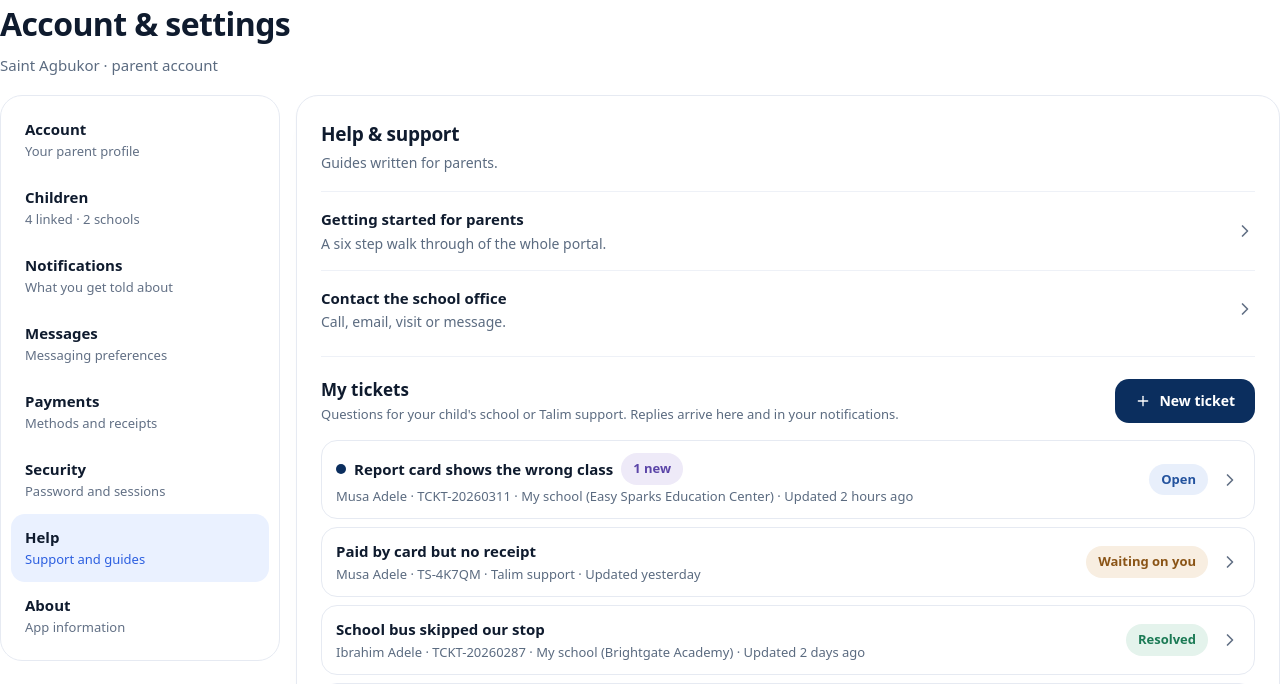
Test: New ticket (fixtures) › defaults to the active child, offers both desks with that child’s school, and checks every field on Send
Click the button "New ticket" at (1185, 400), box [1115, 378, 1255, 422]
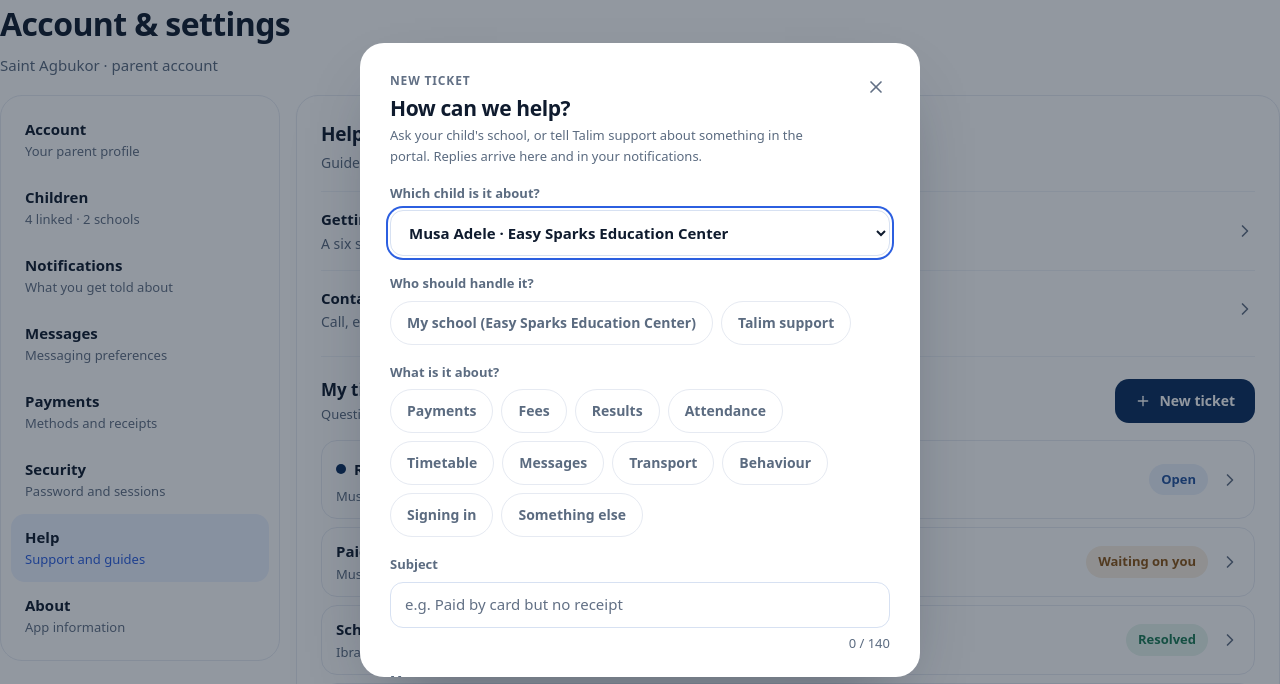
Now the dropdown labelled "Which child is it about?" shows "Musa Adele · Easy Sparks Education Center"
Now the radio buttons read "My school (Easy Sparks Education Center)", "Talim support", in this order, box [390, 301, 713, 345]; [721, 301, 851, 345]
Select "Zainab Adele · Brightgate Academy" in the dropdown labelled "Which child is it about?" at (640, 233), box [390, 210, 890, 256]
(page scrolled)
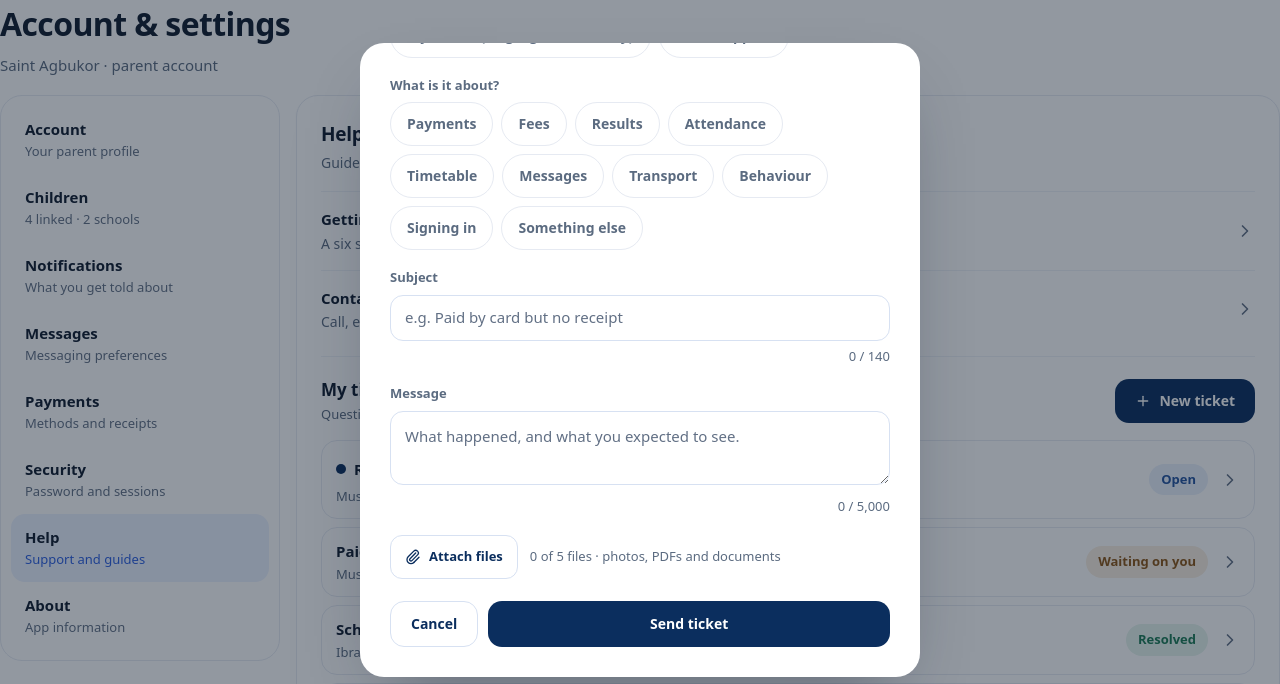
Click the button "Send ticket" at (689, 624), box [488, 601, 890, 647]
(page scrolled)
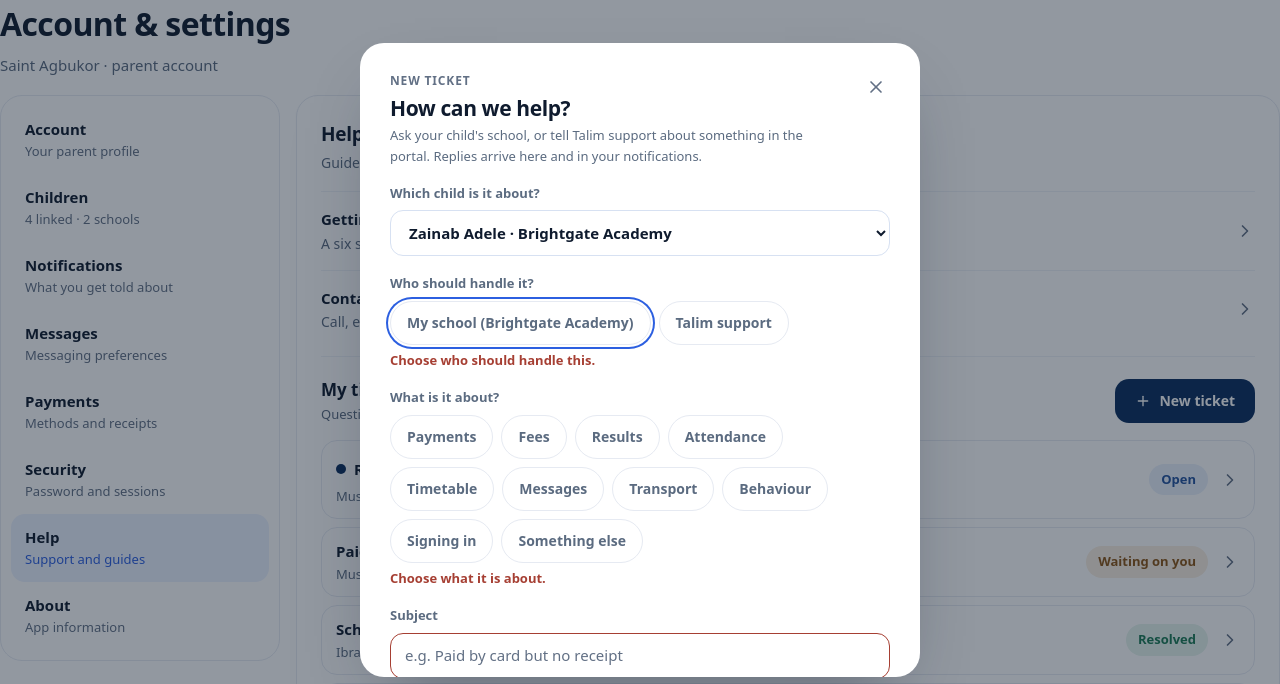
Now the text "Choose who should handle this." is shown, box [390, 351, 595, 369]
Now the text "Choose what it is about." is shown, box [390, 569, 546, 587]
